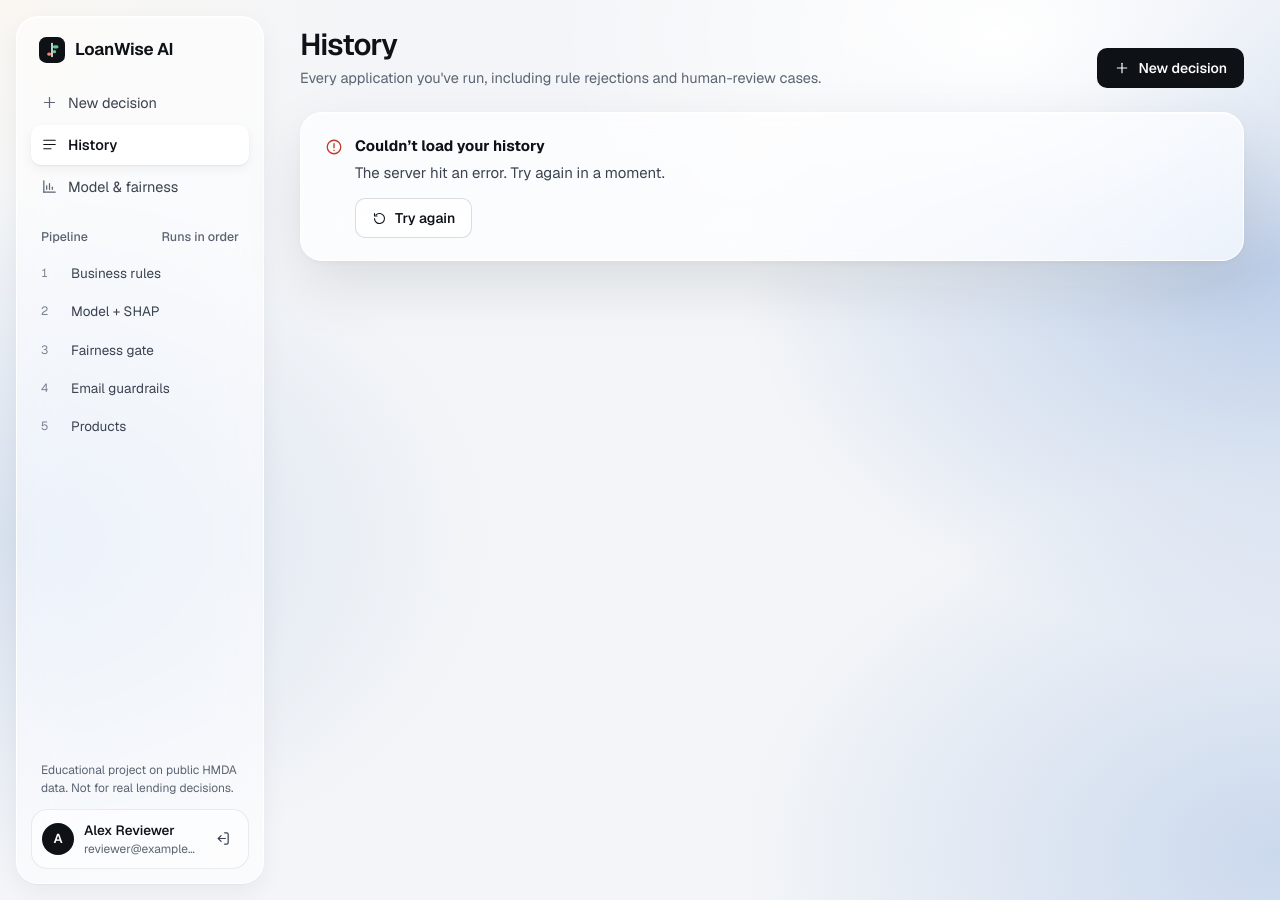
History › shows an error and retries
The width and height of the screenshot is (1280, 900).
expect the message shows "Couldn’t load your history": met, box [355,136,545,155]
Click the button "Try again": [414, 218] box [355,198,472,238]
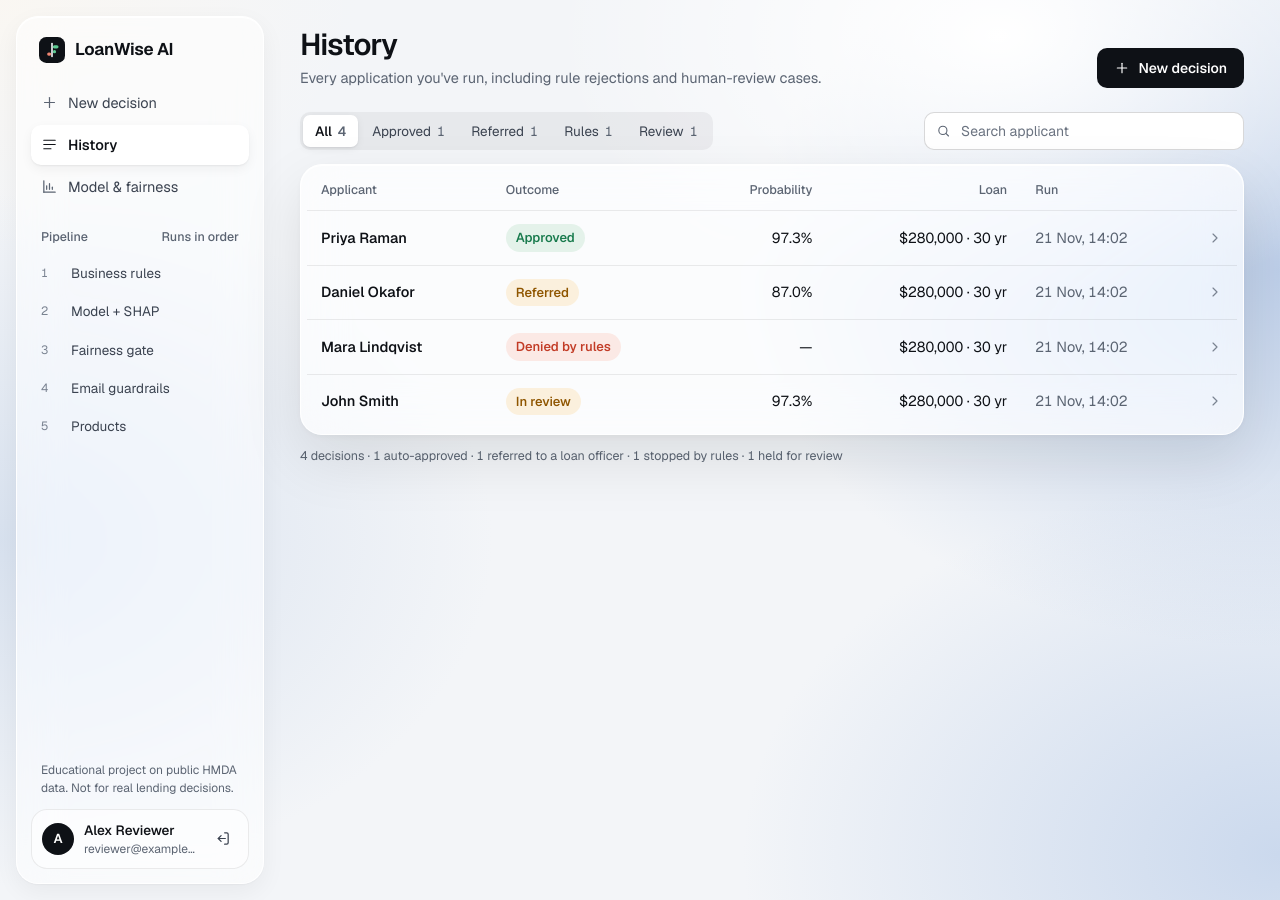
expect the link "Priya Raman" is shown: met, box [321,228,407,247]
